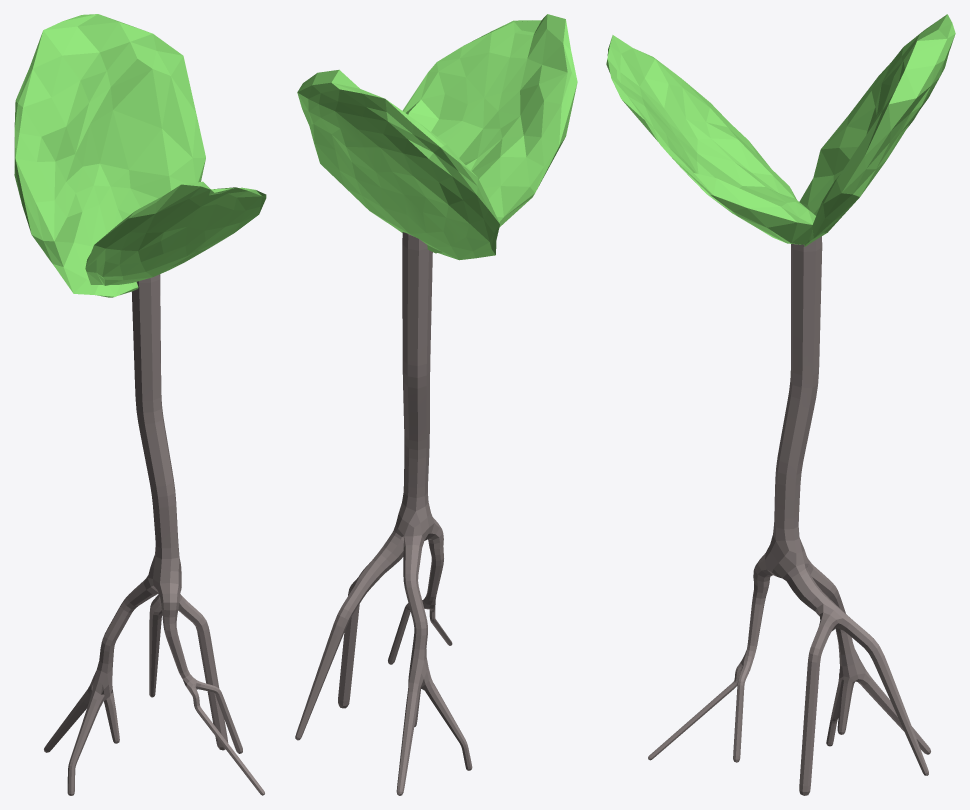
File: sapling.fbx
3 renders of one model, left to right at view 1: azimuth 30°, elevation 25°; view 2: azimuth 150°, elevation 25°; view 3: azimuth 270°, elevation 25°, orthographic. The views are drawn at different scales.
Parts seen in each view (by area): view 1: Icosphere.000; view 2: Icosphere.000; view 3: Icosphere.000.
Part boxes in pixels (<box>): Icosphere.000: <box>14,14,266,795</box>; Icosphere.000: <box>295,14,577,795</box>; Icosphere.000: <box>606,14,955,795</box>.
Size of the model in its own units: 188 by 720 by 304.
